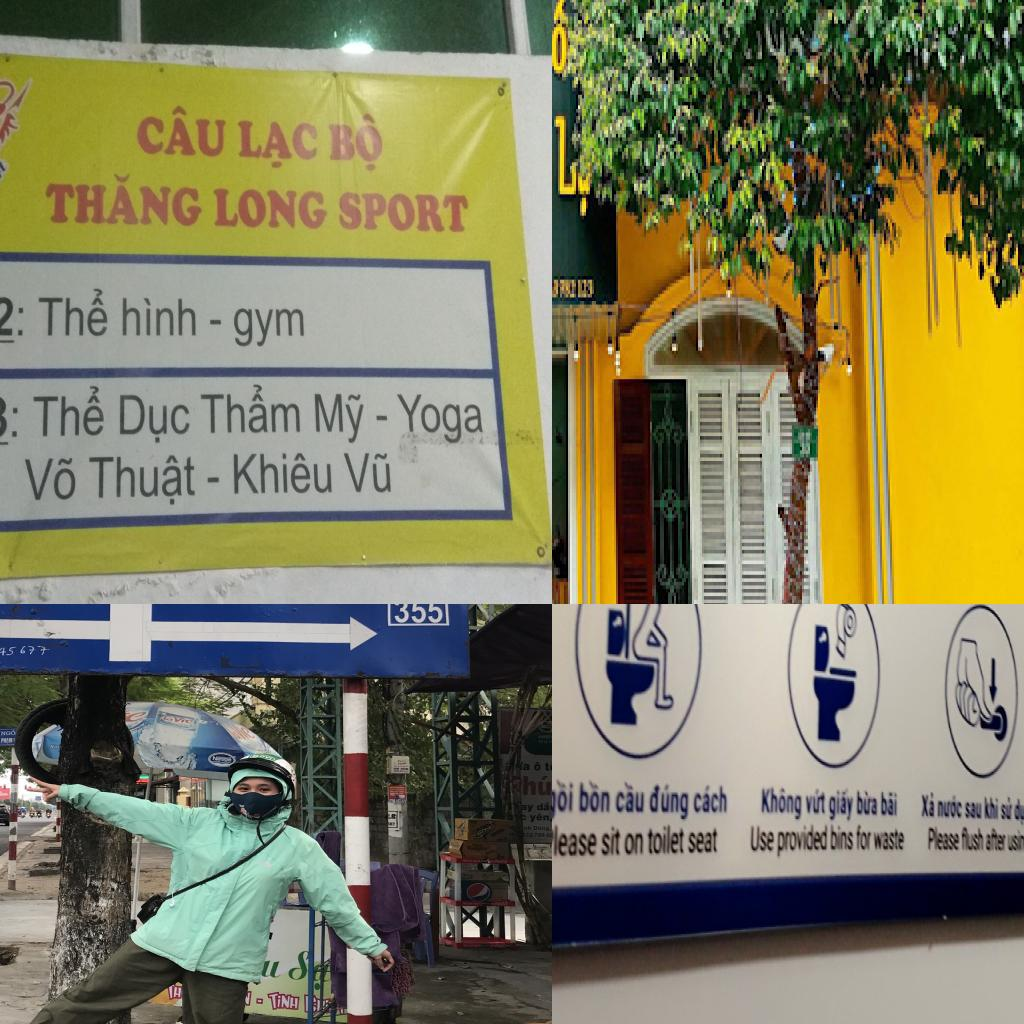text: (40, 168, 202, 228), (335, 186, 473, 240), (88, 454, 200, 512), (194, 378, 304, 434), (131, 99, 226, 160), (210, 184, 328, 230), (390, 391, 484, 447), (228, 447, 335, 496), (37, 285, 113, 339), (235, 118, 317, 168), (324, 110, 384, 177), (30, 383, 104, 437), (117, 294, 198, 342), (118, 393, 188, 447), (230, 305, 308, 349), (308, 386, 367, 439), (20, 452, 76, 504), (554, 109, 580, 205), (552, 0, 576, 84), (648, 780, 691, 824), (776, 827, 829, 859), (759, 785, 803, 823), (0, 293, 30, 347), (552, 823, 596, 858), (647, 823, 685, 856), (613, 780, 645, 818), (578, 781, 612, 816), (692, 782, 728, 815), (0, 639, 51, 662), (872, 826, 908, 855), (926, 823, 960, 853), (265, 988, 304, 1014), (828, 786, 854, 825), (0, 392, 20, 442), (391, 604, 445, 622), (552, 776, 574, 820), (686, 829, 720, 856), (749, 823, 775, 856), (520, 774, 552, 798), (856, 786, 878, 818), (829, 826, 855, 853), (0, 149, 11, 212), (599, 826, 621, 856), (805, 786, 827, 816), (879, 789, 900, 819), (937, 795, 963, 819), (960, 829, 986, 853), (122, 707, 153, 727), (918, 789, 937, 821), (855, 822, 873, 853), (622, 832, 644, 856), (986, 830, 1008, 854), (1007, 831, 1024, 861), (983, 792, 1000, 820), (964, 796, 984, 819), (1013, 796, 1024, 831), (1001, 795, 1014, 820), (394, 757, 410, 774), (211, 754, 235, 764), (0, 790, 12, 801), (545, 762, 552, 773)
